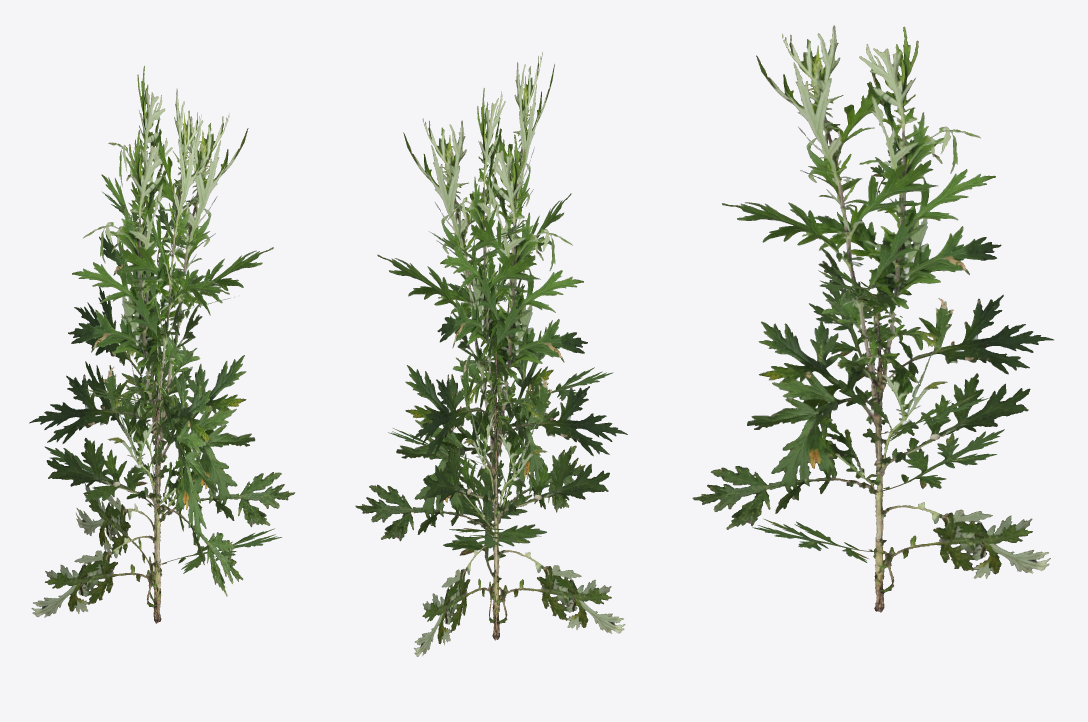
Rendered from m_grass_26.fbx.
3 renders of one model, left to right at view 1: azimuth 30°, elevation 25°; view 2: azimuth 150°, elevation 25°; view 3: azimuth 270°, elevation 25°, orthographic. The views are drawn at different scales.
Visible parts, largest first — view 1: mesh_grass_26_LOD0; view 2: mesh_grass_26_LOD0; view 3: mesh_grass_26_LOD0.
Boxes of the visible parts, x1,y1,x2,y2 form: mesh_grass_26_LOD0: (29, 66, 295, 623); mesh_grass_26_LOD0: (355, 52, 627, 656); mesh_grass_26_LOD0: (692, 25, 1053, 612).
Size of the model in its own units: 0.3898 by 0.7186 by 0.4288.
